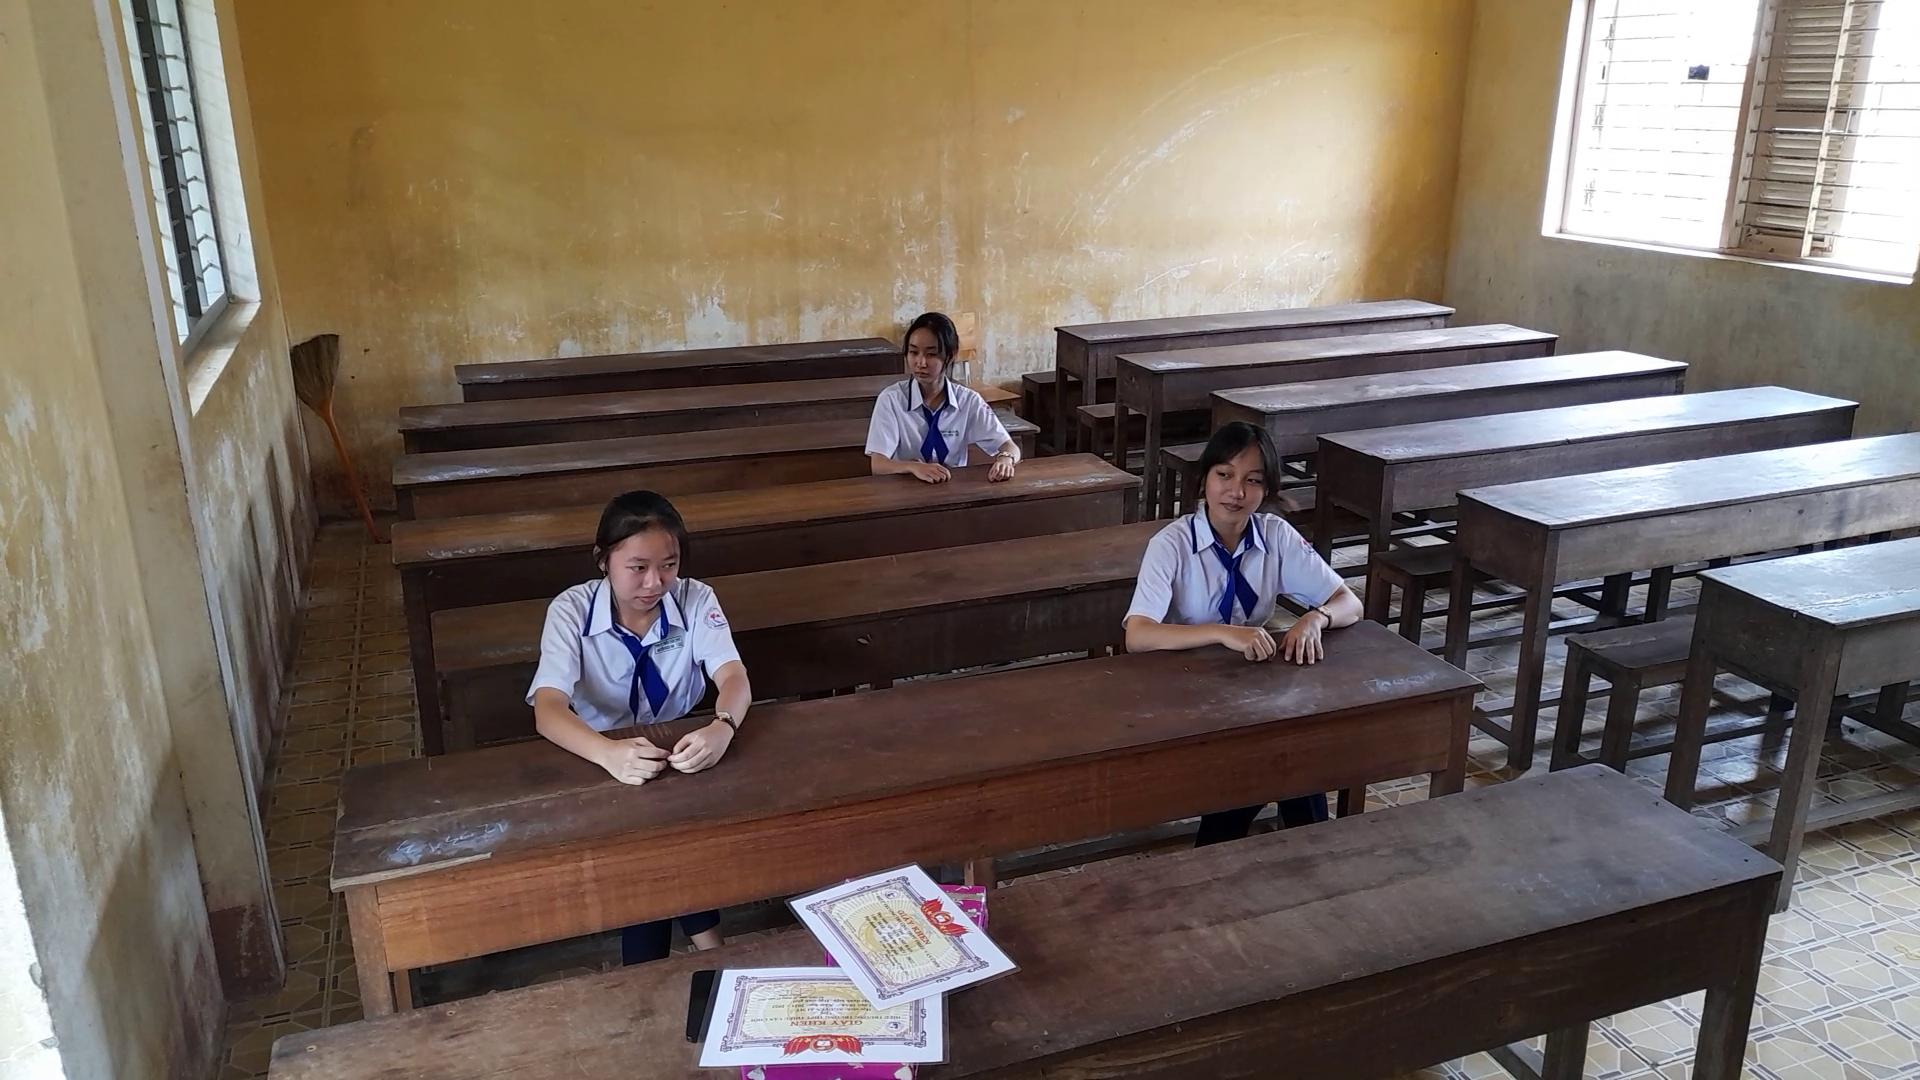Normal: (513, 460, 764, 771), (1116, 392, 1364, 704), (855, 291, 1033, 498)
